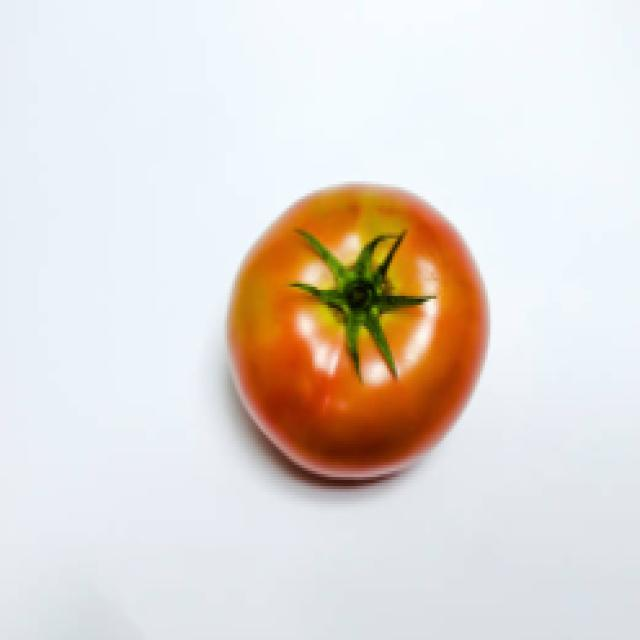Tomato: (214, 167, 504, 499)
